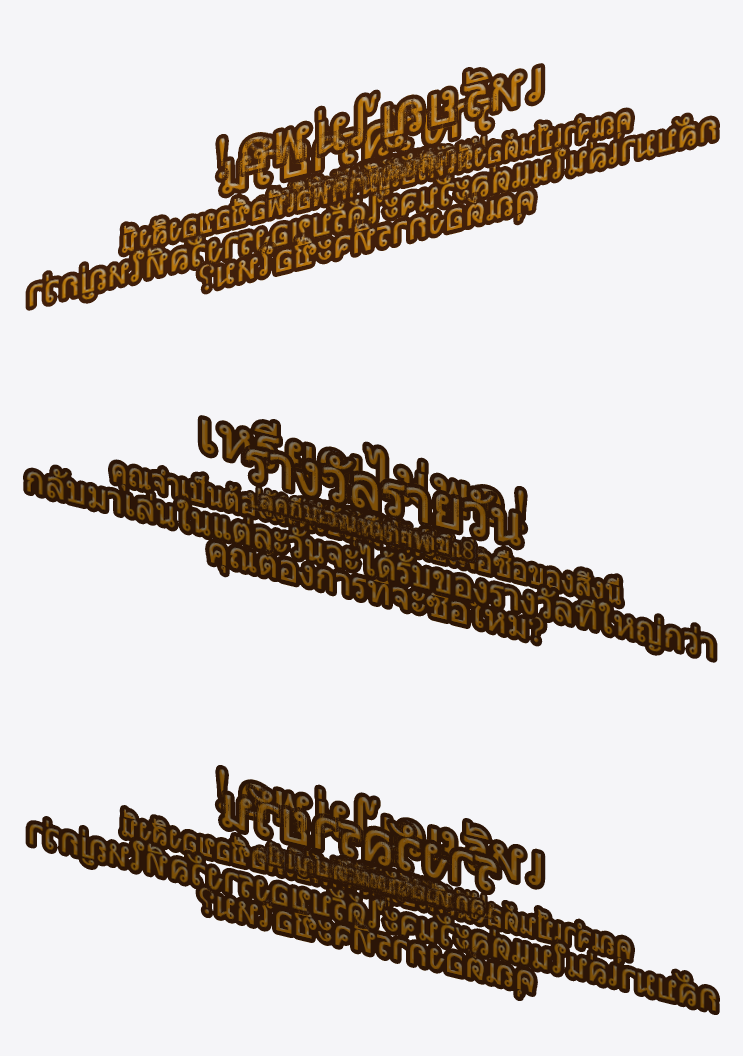
File: chinisetexts.fbx
The picture shows the model from 3 angles, top to bottom: view 1: azimuth 30°, elevation 25°; view 2: azimuth 150°, elevation 25°; view 3: azimuth 330°, elevation 25°; orthographic projection.
Visible parts, largest first — view 1: nocoins, nagroda, ball1, ball3, dzisiaj; view 2: nagroda, nocoins, ball4, ball3, dzisiaj, power1, wtorek; view 3: nagroda, nocoins, collected, ball4, power1, niedziela, power3, power2, power4, sroda.
Boxes of the visible parts, x1,y1,x2,y2 form: nocoins: (118, 63, 634, 294); nagroda: (25, 93, 719, 310); ball1: (277, 142, 474, 208); ball3: (313, 148, 438, 201); dzisiaj: (348, 148, 421, 192); nagroda: (23, 445, 717, 662); nocoins: (108, 415, 624, 646); ball4: (258, 487, 475, 561); ball3: (304, 501, 431, 554); dzisiaj: (321, 500, 394, 545); power1: (257, 493, 468, 561); wtorek: (307, 498, 424, 552); nagroda: (25, 784, 719, 1014); nocoins: (118, 765, 634, 1000); collected: (284, 849, 455, 911); ball4: (268, 843, 483, 915); power1: (274, 846, 485, 921); niedziela: (308, 849, 433, 907); power3: (295, 853, 408, 898); power2: (293, 853, 427, 903); power4: (267, 840, 473, 914); sroda: (329, 859, 405, 898).
Size of the model in its own units: 817 by 213 by 1e-13.
Materials: 1 (1 with a texture image).
